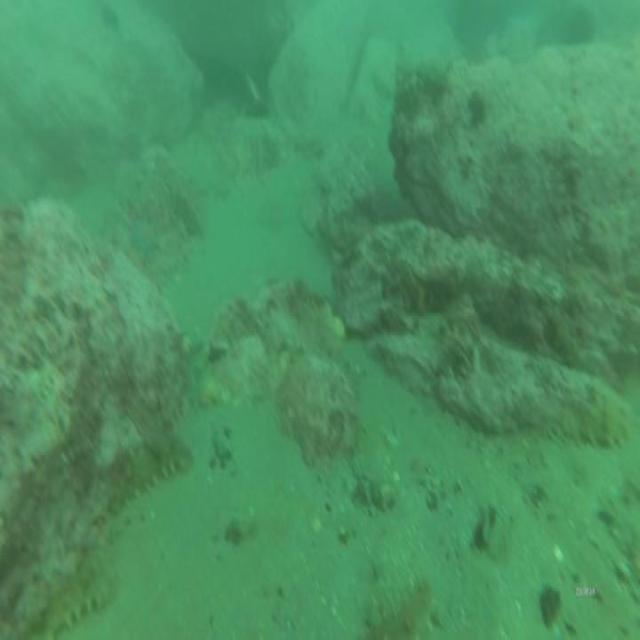holothurian: (38, 539, 118, 637), (114, 428, 194, 499), (369, 567, 435, 640), (563, 389, 629, 455), (396, 52, 452, 101)
starfish: (130, 217, 162, 259)
